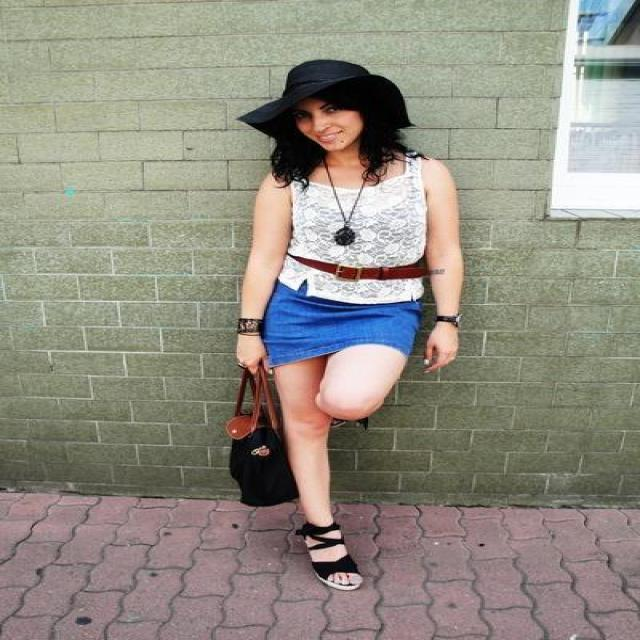bag: (222, 357, 300, 506)
hat: (237, 60, 400, 124)
shirt: (278, 175, 426, 303)
shoe: (285, 522, 358, 579)
skirt: (264, 276, 418, 364)
